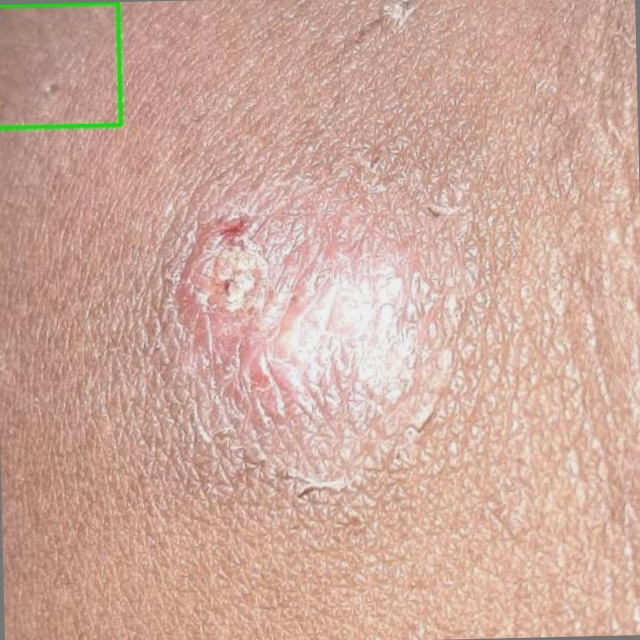Contact Dermatitis: (0, 2, 121, 127)
